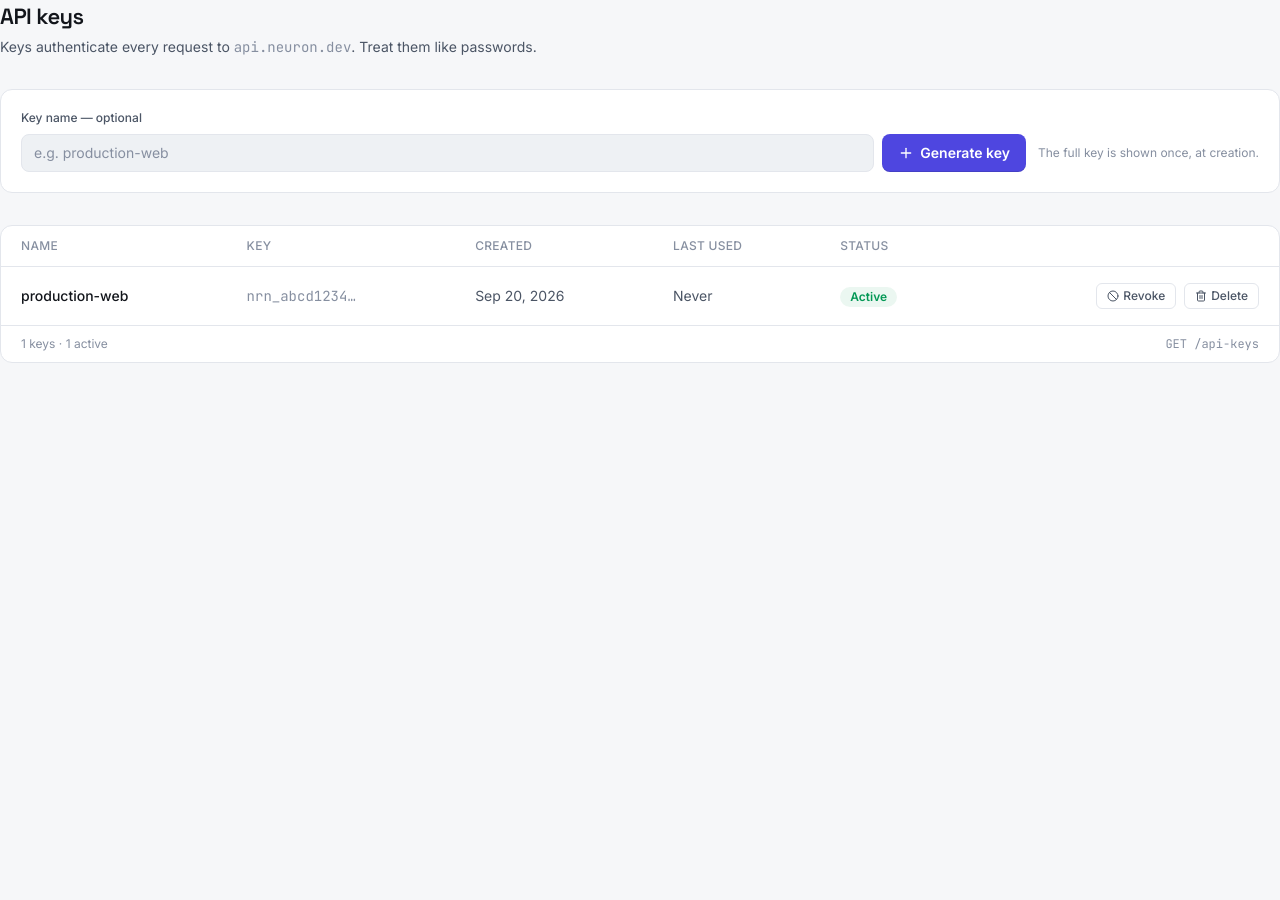
Test: ApiKeysSection › deletes a key once confirmed in the dialog, then refetches the list
This screenshot has width=1280, height=900.
Click the button "Delete" at (1222, 296), box [1184,283,1259,309]
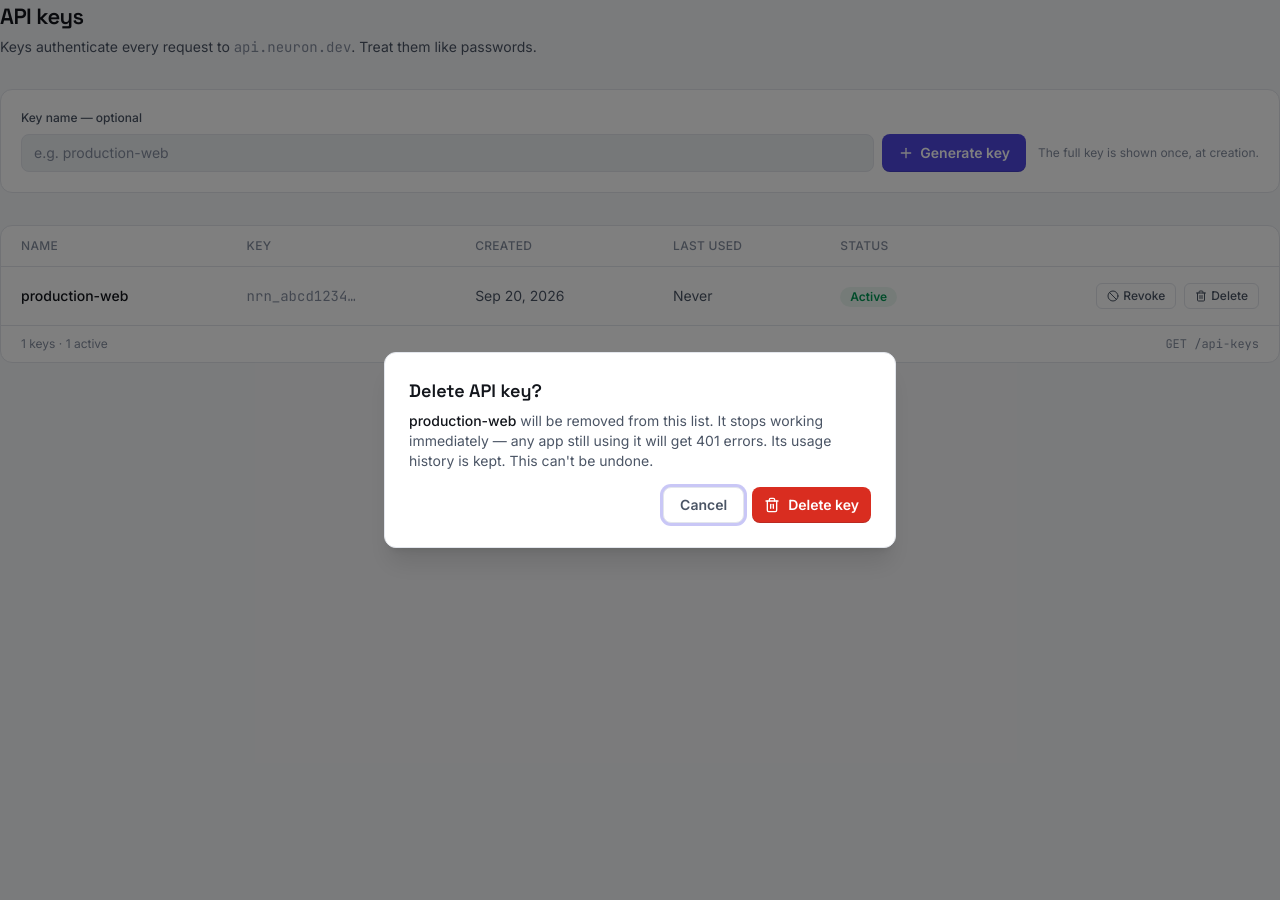
Click the button "Delete key" at (812, 505), box [752,487,871,523]
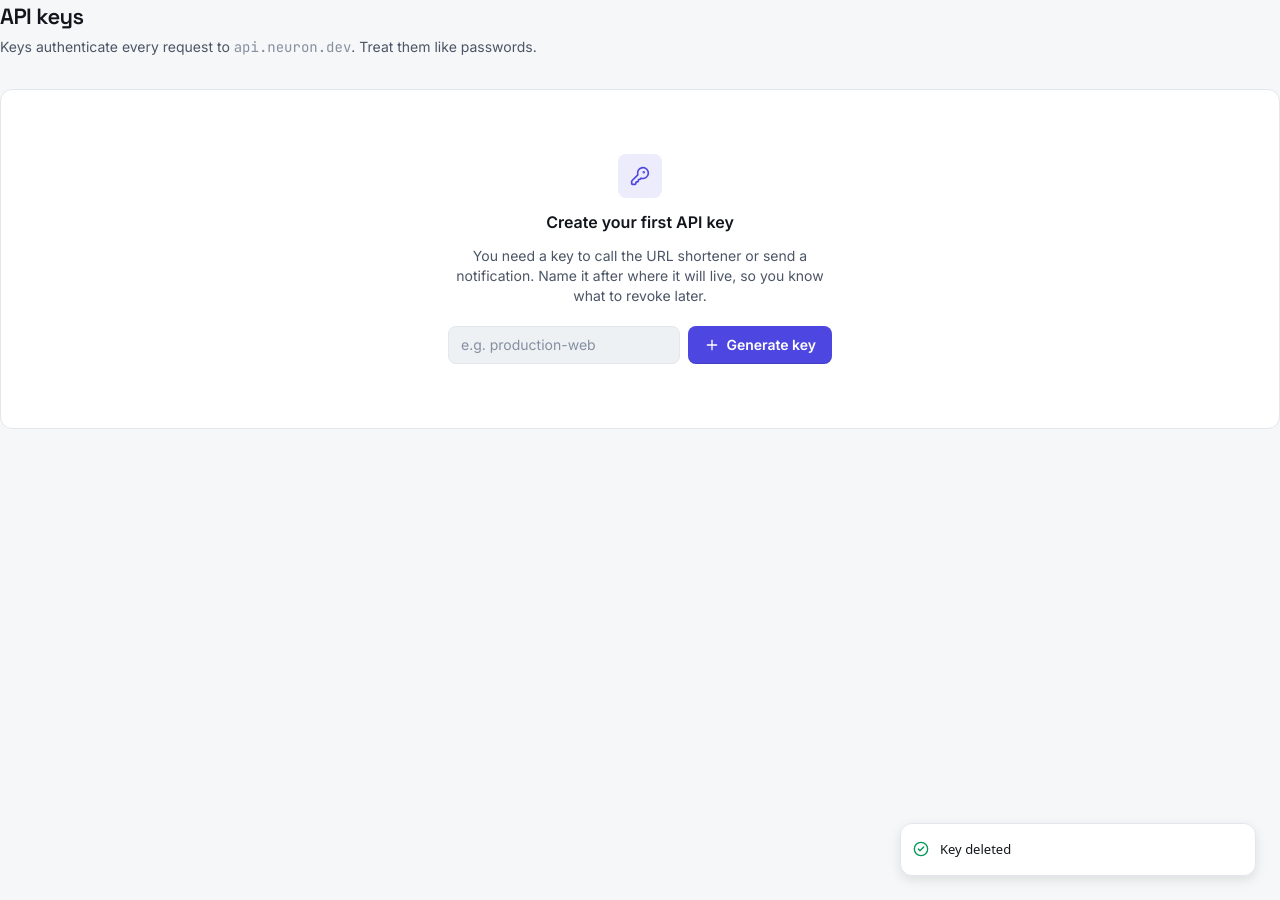
Check: the text "Key deleted" is shown, box [940,840,1011,859]
Check: the dialog is gone
Check: the heading "Create your first API key" is shown, box [546,210,734,234]
